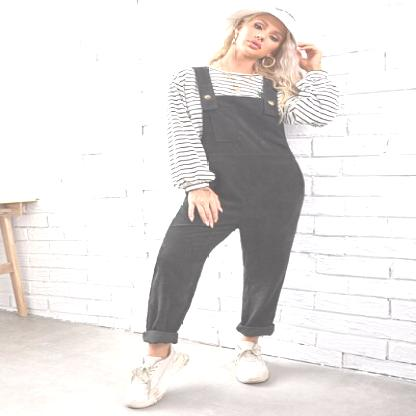dress: (124, 60, 337, 354)
jean: (120, 7, 342, 391)
